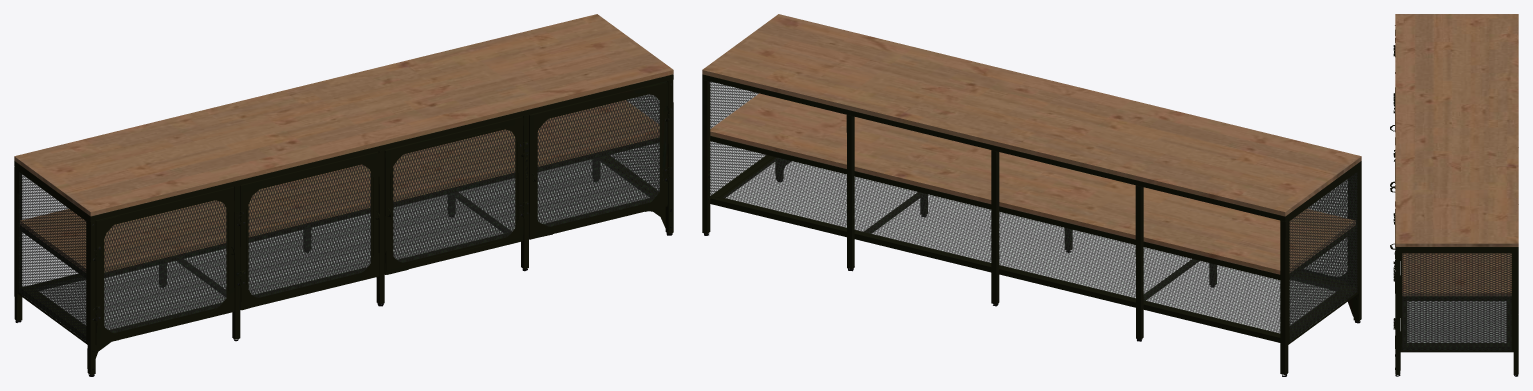
Rendered from 21 - FJÄLLBO TV bench - black 198x45x54 cm.glb.
3 renders of one model, left to right at view 1: azimuth 30°, elevation 25°; view 2: azimuth 150°, elevation 25°; view 3: azimuth 270°, elevation 25°, orthographic. The views are drawn at different scales.
Visible parts, largest first — view 1: 40579032-FJÃƒâ€žLLBO001; view 2: 40579032-FJÃƒâ€žLLBO001; view 3: 40579032-FJÃƒâ€žLLBO001.
Part boxes in pixels (left/top/right/bottom): 40579032-FJÃƒâ€žLLBO001: left=14, top=14, right=673, bottom=376; 40579032-FJÃƒâ€žLLBO001: left=702, top=14, right=1361, bottom=376; 40579032-FJÃƒâ€žLLBO001: left=1390, top=14, right=1518, bottom=376.
Size of the model in its own units: 1.98 by 0.538 by 0.47.
2 materials, 2 textured.
